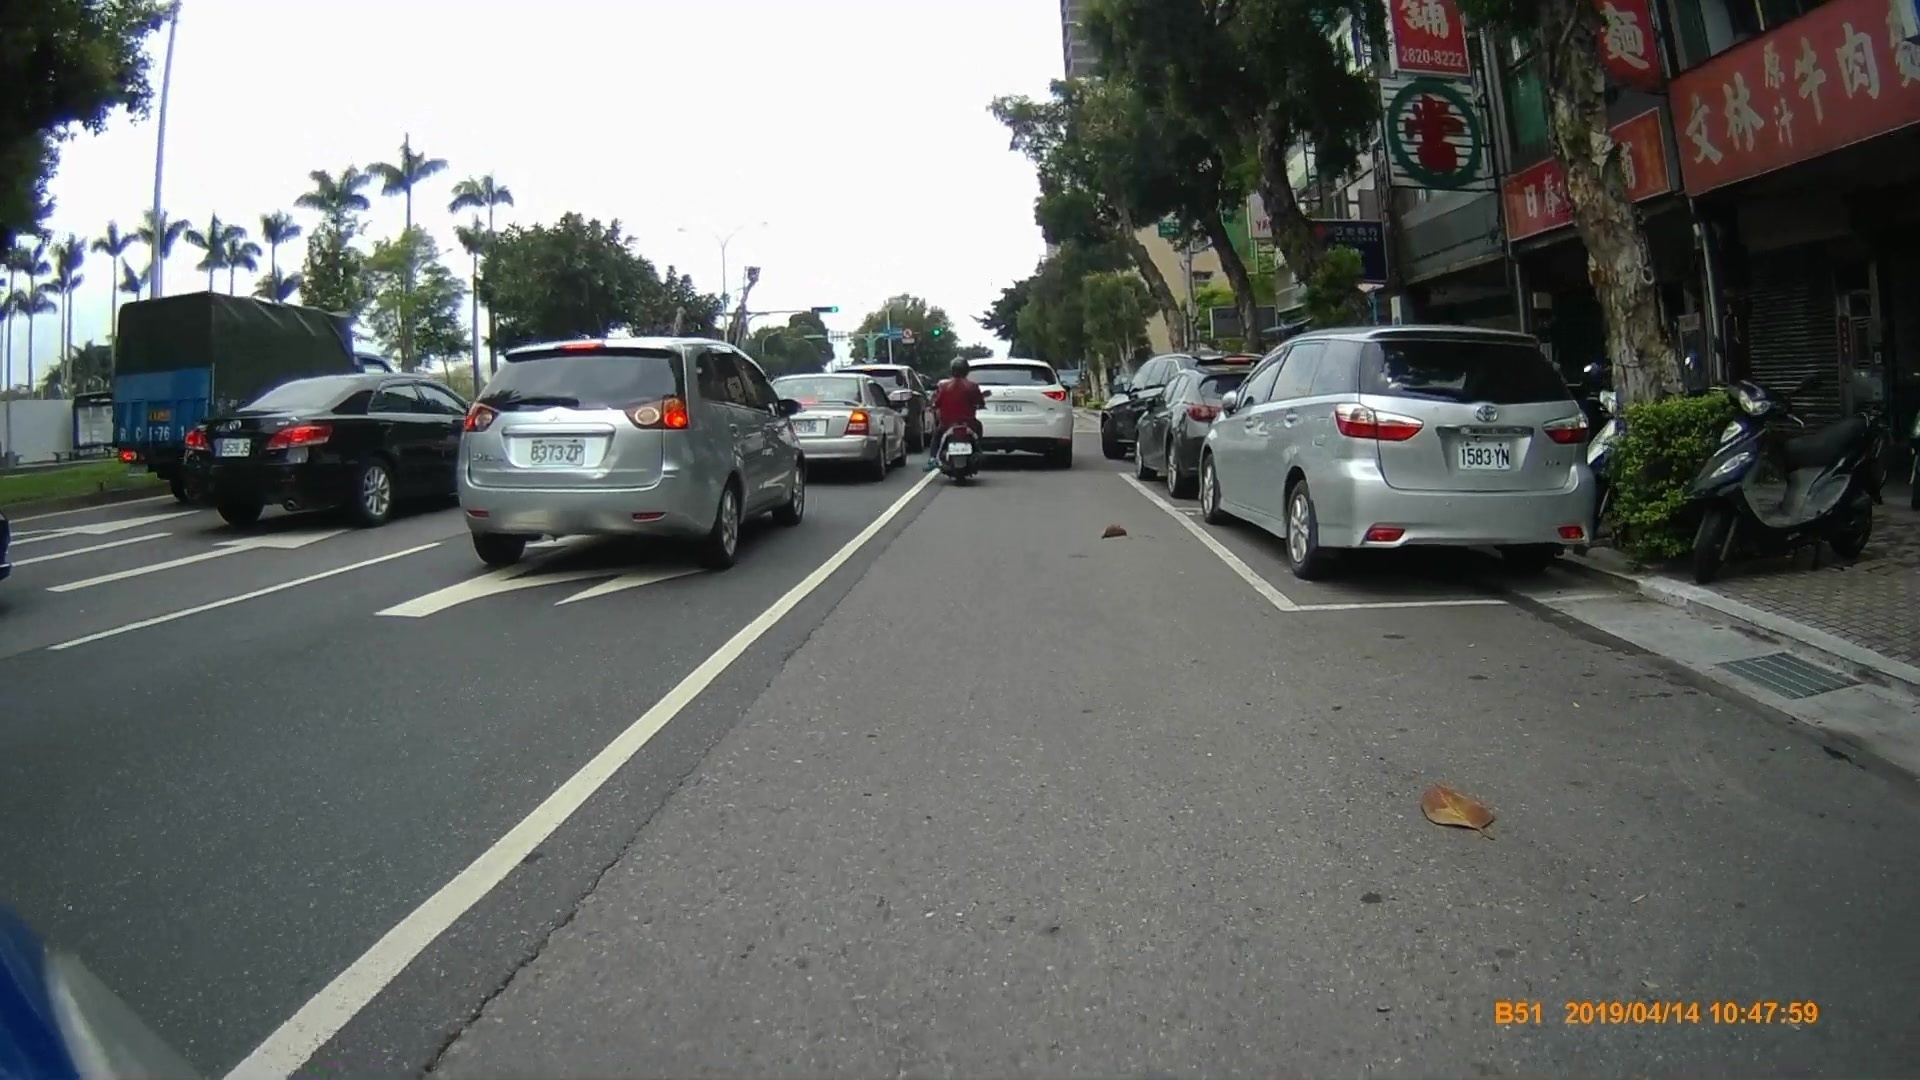License_plate: (528, 435, 584, 470), (1458, 440, 1515, 473), (222, 437, 254, 457)
